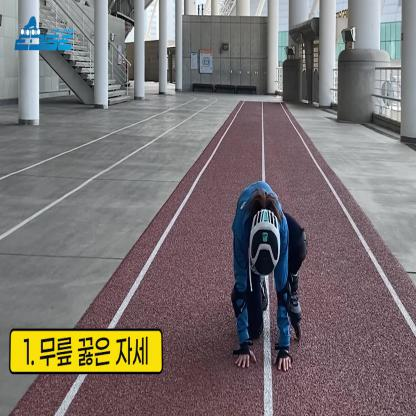Fall_Down: (231, 181, 310, 374)
